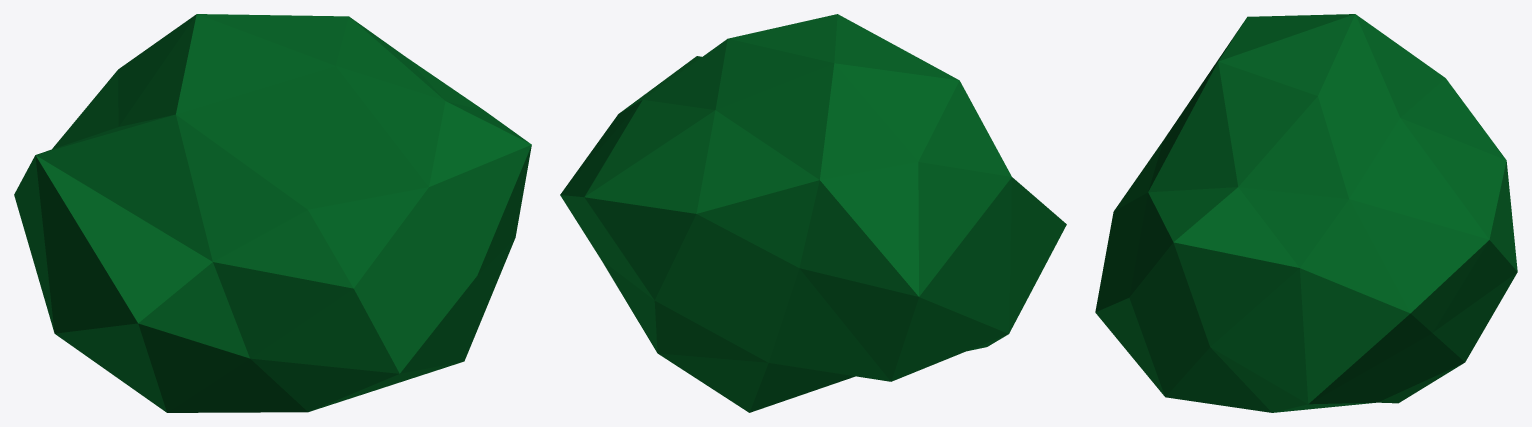
Rendered from Bush3.fbx.
3 renders of one model, left to right at view 1: azimuth 30°, elevation 25°; view 2: azimuth 150°, elevation 25°; view 3: azimuth 270°, elevation 25°, orthographic. The views are drawn at different scales.
Visible parts, largest first — view 1: bush3; view 2: bush3; view 3: bush3.
Part boxes in pixels (x1,y1,x2,y2): bush3: (14,14,531,412); bush3: (560,14,1066,412); bush3: (1095,14,1517,412).
Size of the model in its own units: 3.89 by 3.09 by 3.31.
